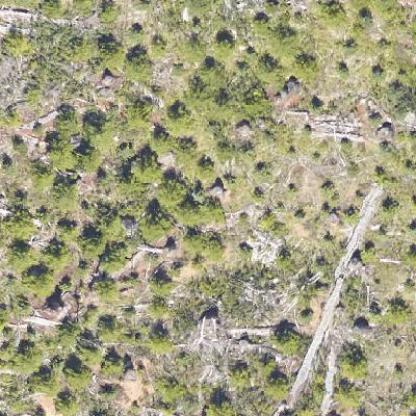tree-top: (20, 259, 57, 295), (82, 114, 119, 148), (269, 321, 304, 356), (122, 47, 156, 82), (288, 50, 324, 82), (46, 177, 78, 210), (60, 359, 92, 390), (157, 178, 187, 208), (336, 353, 369, 380), (146, 328, 176, 356), (261, 374, 290, 401), (334, 380, 363, 404), (100, 350, 126, 376), (356, 242, 379, 266)
